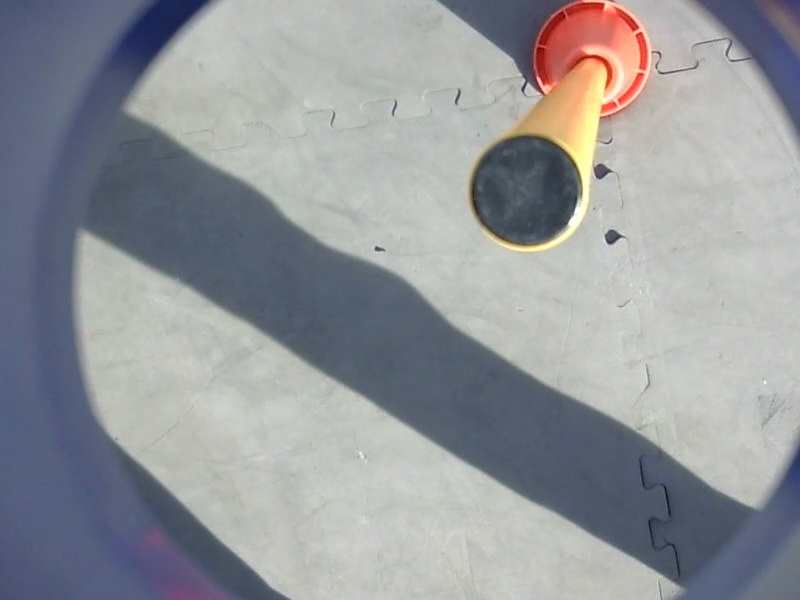tip: (462, 127, 592, 259)
